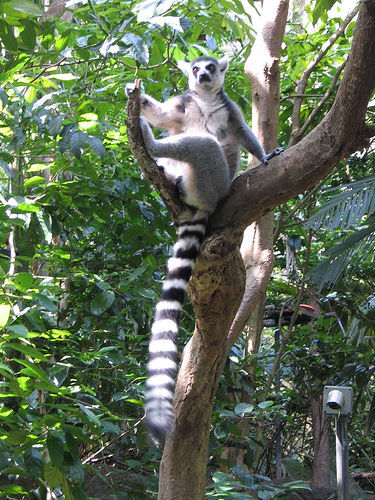cat: (122, 55, 282, 438)
